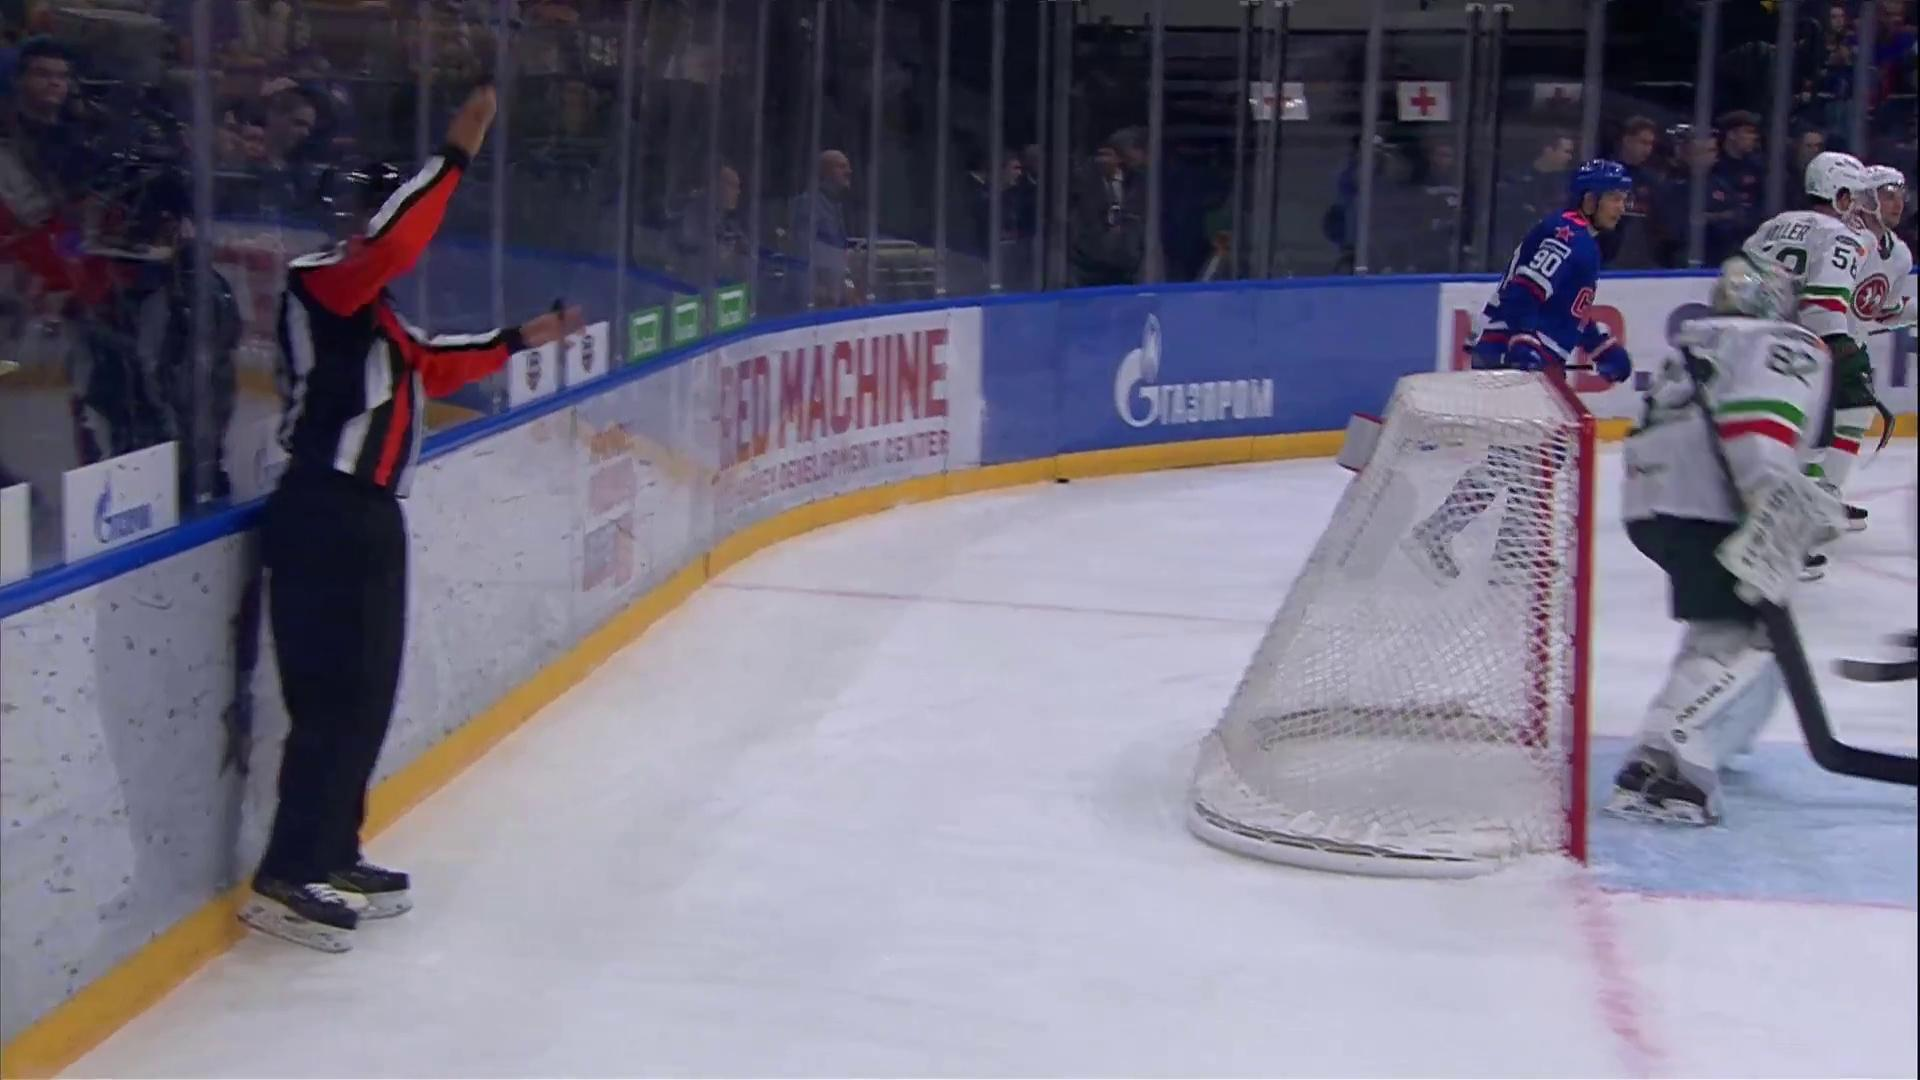ball: (1056, 477, 1071, 485)
